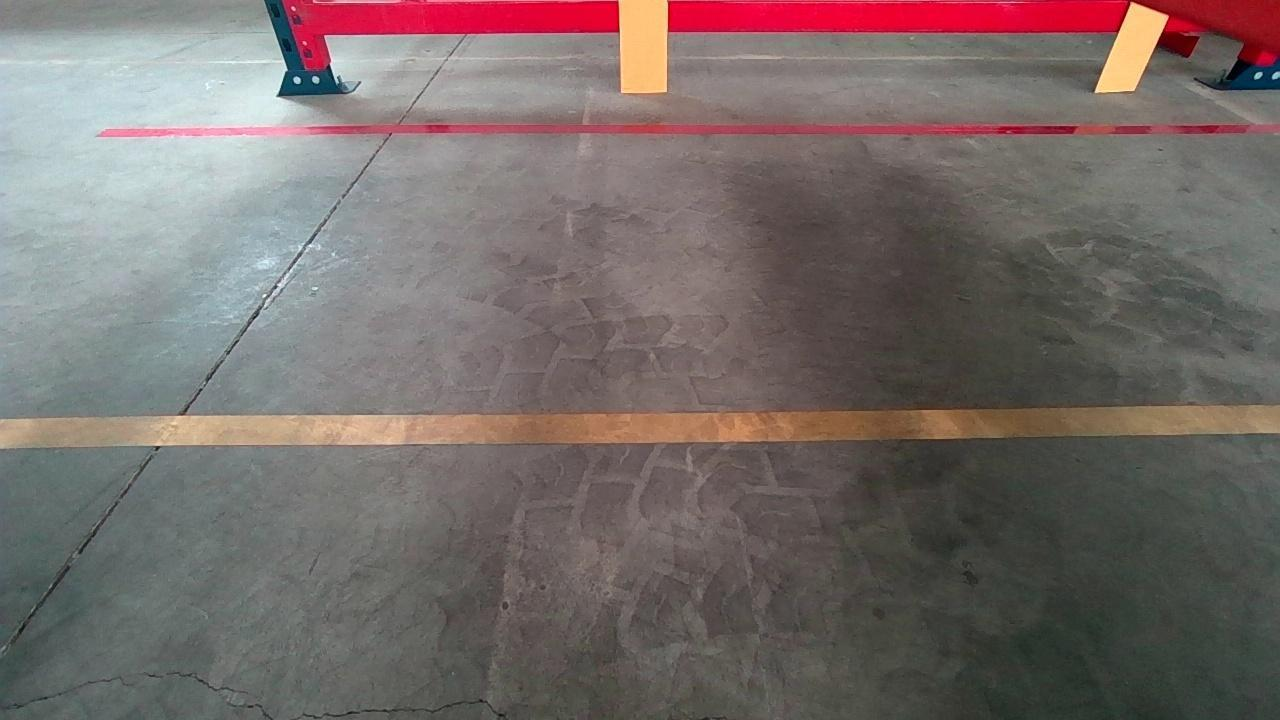h_rack: (310, 0, 1124, 35)
orange_strip: (1095, 2, 1171, 90), (619, 0, 669, 90)
red_line: (109, 115, 1280, 144)
yellow_line: (0, 406, 1278, 447)
